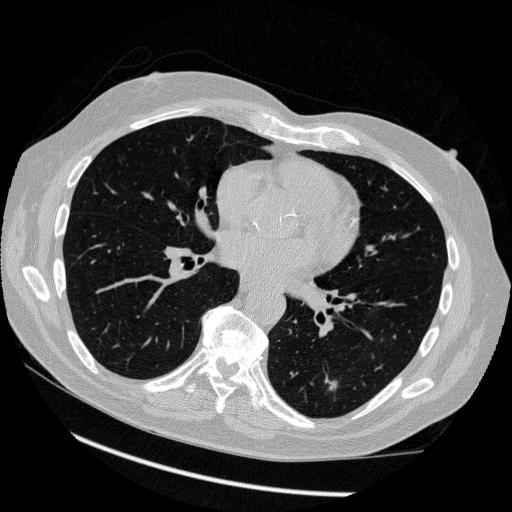nodule: (324, 375, 343, 394)
